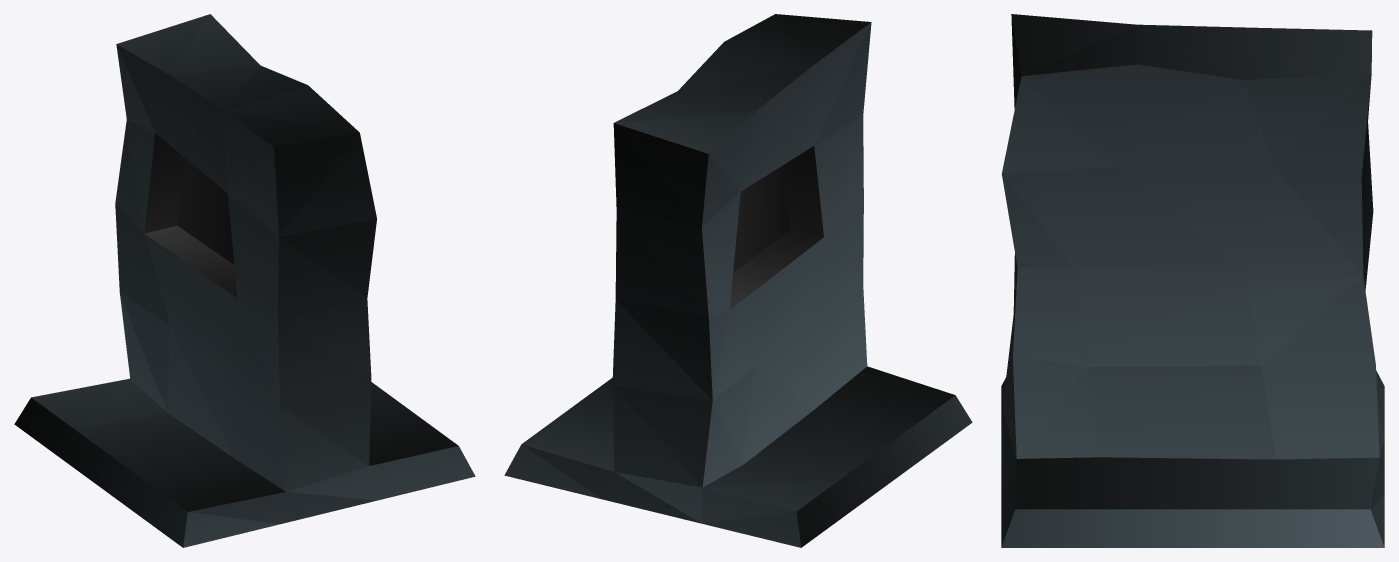
Rendered from borne2.glb.
3 renders of one model, left to right at view 1: azimuth 30°, elevation 25°; view 2: azimuth 150°, elevation 25°; view 3: azimuth 270°, elevation 25°, orthographic. The views are drawn at different scales.
Parts seen in each view (by area): view 1: Cube; view 2: Cube; view 3: Cube.
Boxes of the visible parts, x1,y1,x2,y2 form: Cube: (14,14,475,547); Cube: (504,14,972,547); Cube: (1001,14,1384,547).
Size of the model in its own units: 2 by 2.45 by 2.
Materials: 1 (1 with a texture image).
